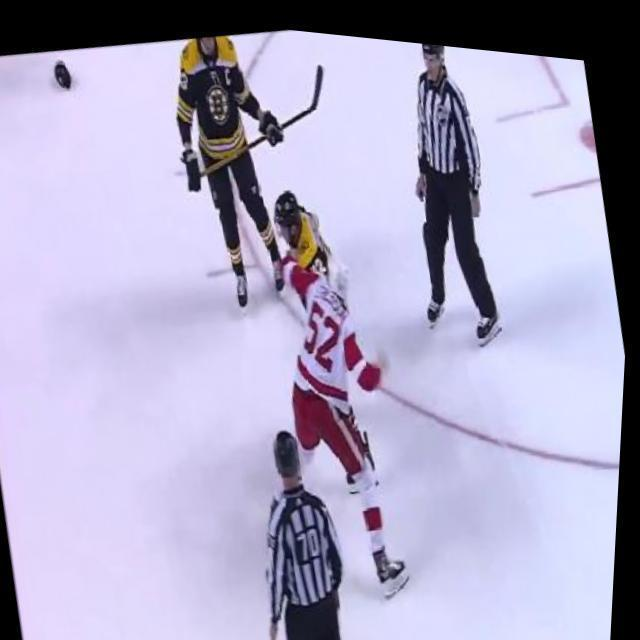fight: (249, 165, 432, 552)
